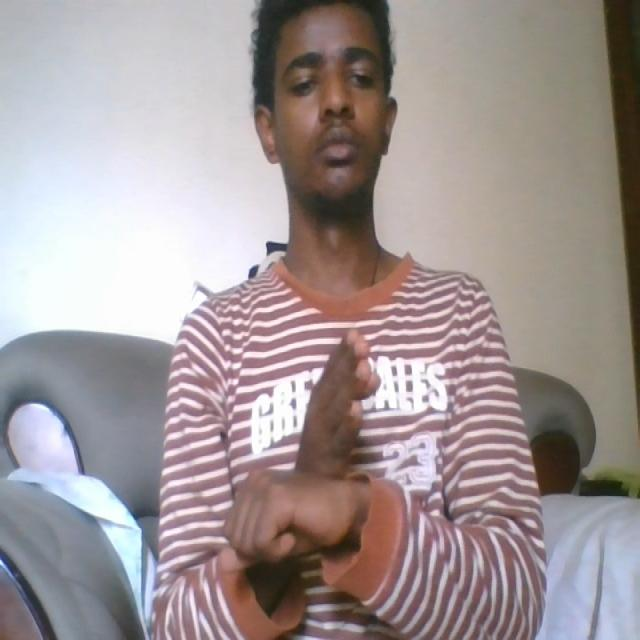behuala: (214, 324, 386, 575)
